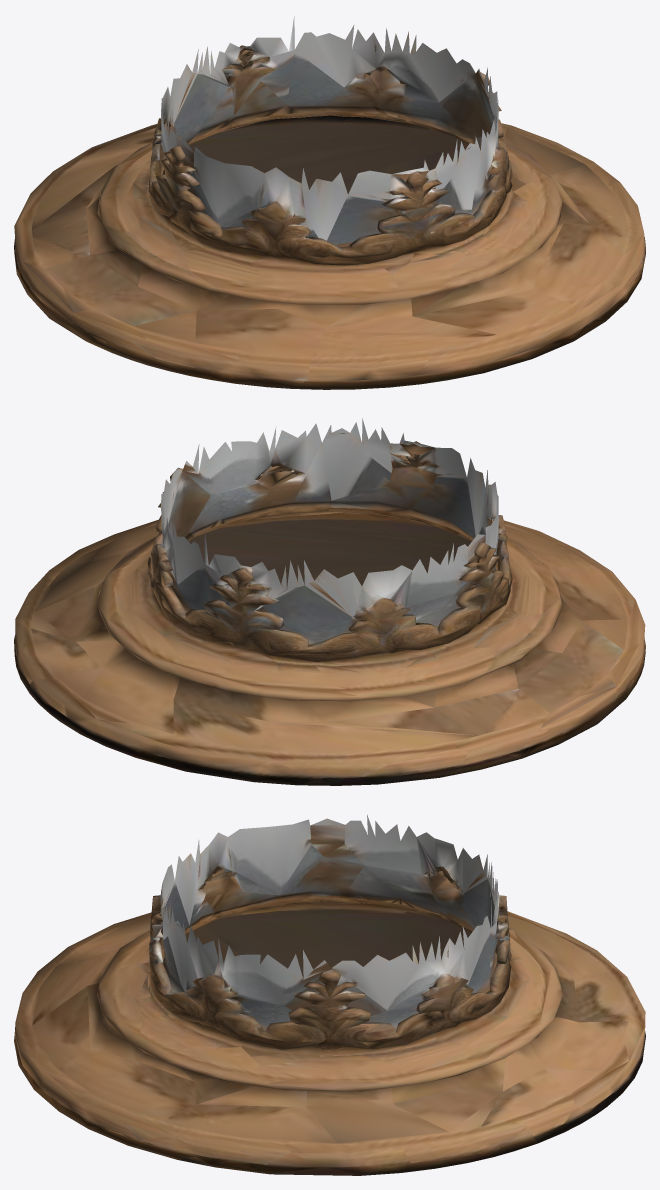
The model's file is column_base.glb.
3 renders of one model, top to bottom at view 1: azimuth 30°, elevation 25°; view 2: azimuth 150°, elevation 25°; view 3: azimuth 270°, elevation 25°, orthographic.
Visible parts, largest first — view 1: column_base; view 2: column_base; view 3: column_base.
Part boxes in pixels (x1,y1,x2,y2): column_base: [14, 16, 645, 389]; column_base: [14, 418, 645, 785]; column_base: [14, 814, 645, 1175].
Bounding box in the file's own units: 1.57 × 0.4731 × 1.57.
1 material, 1 textured.
